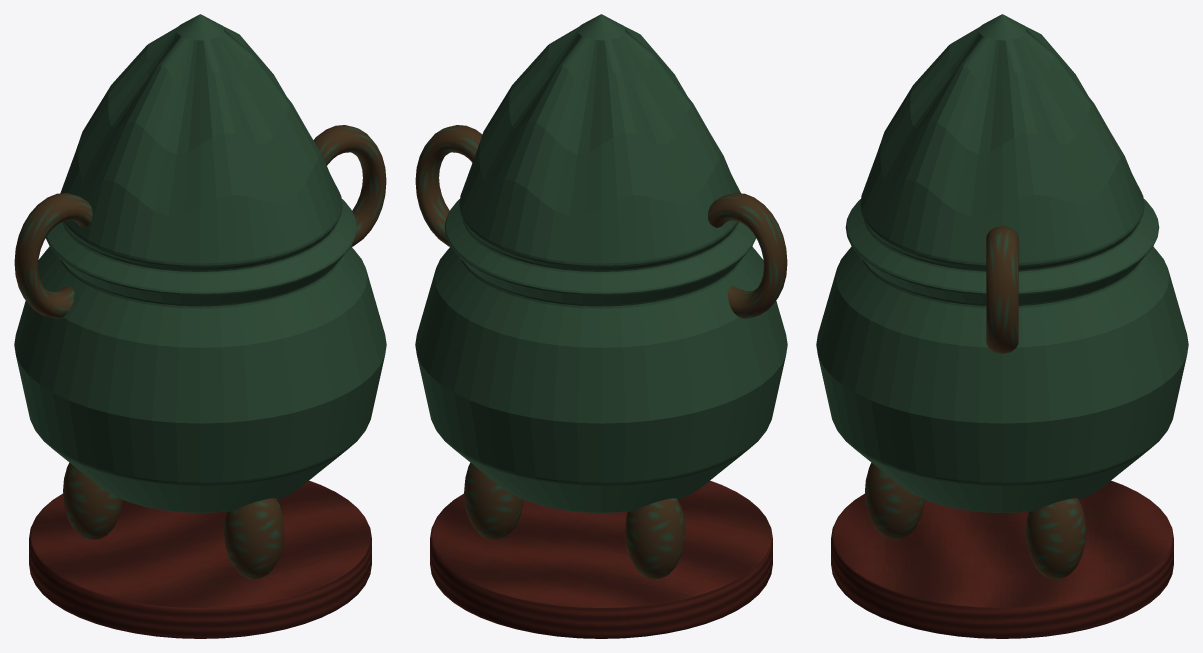
File: bronze_censer.glb
The picture shows the model from 3 angles, left to right: view 1: azimuth 30°, elevation 25°; view 2: azimuth 150°, elevation 25°; view 3: azimuth 270°, elevation 25°; orthographic projection.
Parts seen in each view (by area): view 1: Imperial_Bronze_Censer_Master; view 2: Imperial_Bronze_Censer_Master; view 3: Imperial_Bronze_Censer_Master.
Boxes of the visible parts, bbox=[...] form: Imperial_Bronze_Censer_Master: bbox=[14, 14, 386, 638]; Imperial_Bronze_Censer_Master: bbox=[415, 14, 787, 638]; Imperial_Bronze_Censer_Master: bbox=[816, 14, 1188, 638].
Bounding box in the file's own units: 0.2835 × 0.41 × 0.25.
Materials: 2 (2 with a texture image).
